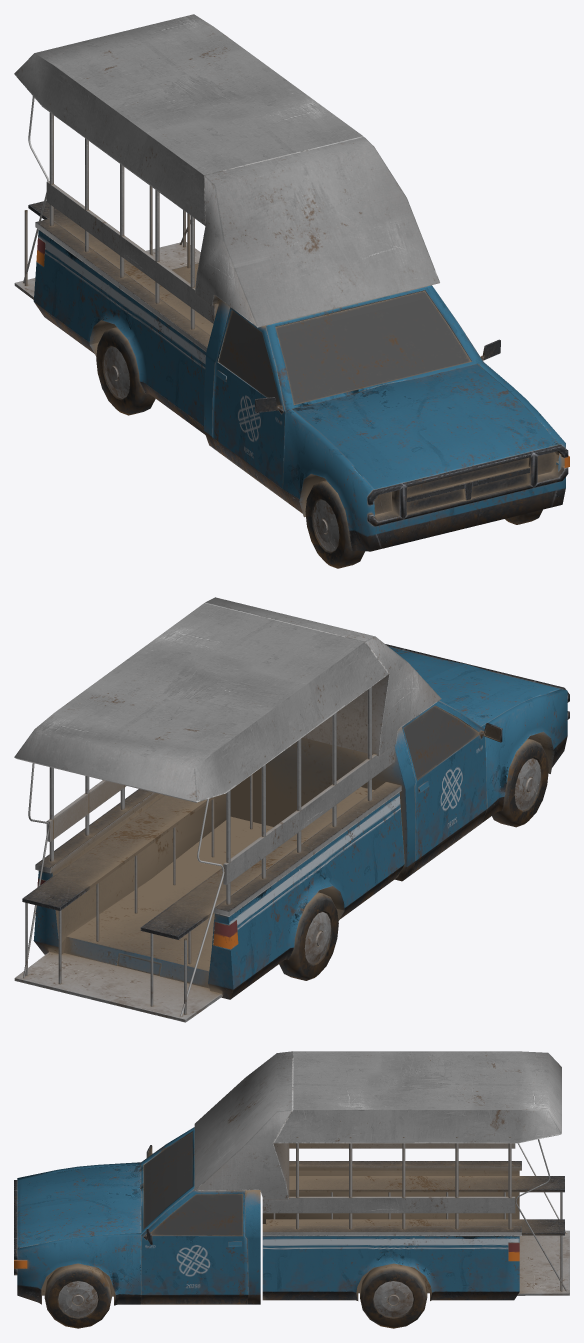
Rendered from ShuttleModel.fbx.
3 views of the same model, one above another, from view 1: azimuth 30°, elevation 25°; view 2: azimuth 150°, elevation 25°; view 3: azimuth 270°, elevation 25° (orthographic). The views are drawn at different scales.
Visible parts, largest first — view 1: Plane.016, Plane.006, Plane.008, Cylinder.026, Cylinder.007, Cylinder.001, Plane.013, Plane.009; view 2: Plane.016, Plane.006, Plane.009, Cylinder.026, Plane.007, Plane.008, Plane.013, Cylinder.007, Cylinder.001; view 3: Plane.016, Plane.006, Plane.008, Plane.013, Cylinder.005, Cylinder.007, Plane.009, Plane.007, Cylinder.026.
Part boxes in pixels (x1,y1,x2,y2): Plane.016: (33,218,569,551); Plane.006: (14,14,439,327); Plane.008: (46,181,217,323); Cylinder.026: (23,96,194,329); Cylinder.007: (96,327,155,415); Cylinder.001: (305,480,364,568); Plane.013: (28,201,217,334); Plane.009: (14,242,200,299); Plane.016: (33,644,569,999); Plane.006: (14,597,441,802); Plane.009: (14,951,222,1022); Cylinder.026: (23,678,371,1016); Plane.007: (22,795,216,910); Plane.008: (46,745,394,884); Plane.013: (140,787,374,939); Cylinder.007: (279,892,338,980); Cylinder.001: (492,738,548,827); Plane.016: (14,1127,521,1305); Plane.006: (194,1051,561,1199); Plane.008: (262,1143,515,1213); Plane.013: (289,1176,564,1192); Cylinder.005: (44,1263,111,1328); Cylinder.007: (360,1263,427,1328); Plane.009: (517,1230,569,1295); Plane.007: (266,1219,564,1235); Cylinder.026: (273,1137,566,1291).
Size of the model in its own units: 200 by 219 by 520.
